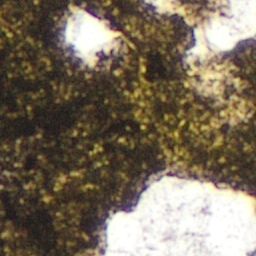cement_matrix: (0, 0, 255, 255), (61, 6, 123, 67), (224, 100, 247, 121), (179, 0, 211, 15), (250, 250, 255, 255)
gravel_crushed_stones: (90, 172, 255, 255), (144, 0, 255, 99), (62, 7, 122, 66), (225, 101, 246, 120)
